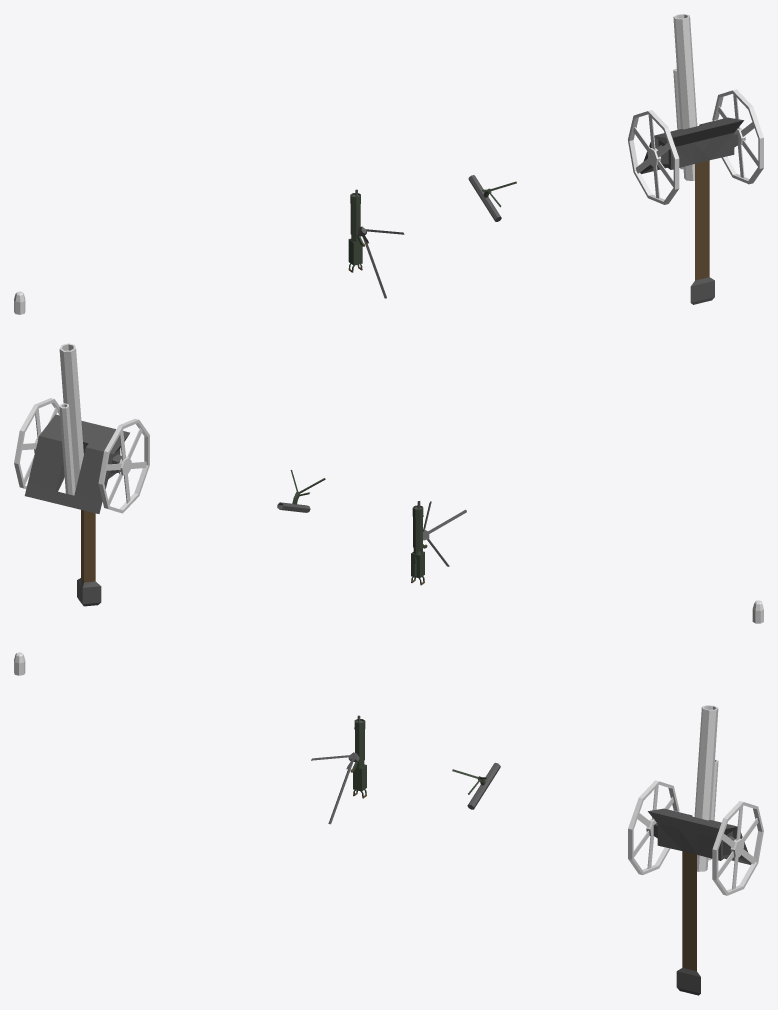
File: Turrets.fbx
The picture shows the model from 3 angles, top to bottom: view 1: azimuth 30°, elevation 25°; view 2: azimuth 150°, elevation 25°; view 3: azimuth 330°, elevation 25°; orthographic projection.
Visible parts, largest first — view 1: Howitzer, Gun, Wheel.001, Wheel, Vickers Machine Gun, Mortar; view 2: Howitzer, Gun, Wheel.001, Wheel, Vickers Machine Gun; view 3: Howitzer, Gun, Wheel, Wheel.001, Vickers Machine Gun.
Part boxes in pixels (left/top/right/bottom): Howitzer: left=640, top=117, right=743, bottom=304; Gun: left=673, top=14, right=697, bottom=180; Wheel.001: left=628, top=110, right=679, bottom=204; Wheel: left=712, top=89, right=763, bottom=184; Vickers Machine Gun: left=348, top=189, right=364, bottom=272; Mortar: left=468, top=175, right=516, bottom=221; Howitzer: left=24, top=414, right=129, bottom=606; Gun: left=59, top=343, right=83, bottom=495; Wheel.001: left=98, top=418, right=149, bottom=513; Wheel: left=14, top=398, right=59, bottom=489; Vickers Machine Gun: left=411, top=501, right=427, bottom=585; Howitzer: left=648, top=808, right=751, bottom=995; Gun: left=694, top=705, right=718, bottom=871; Wheel: left=712, top=801, right=763, bottom=895; Wheel.001: left=628, top=780, right=679, bottom=874; Vickers Machine Gun: left=350, top=715, right=366, bottom=798.
Bounding box in the file's own units: 1717 × 614 × 217.
